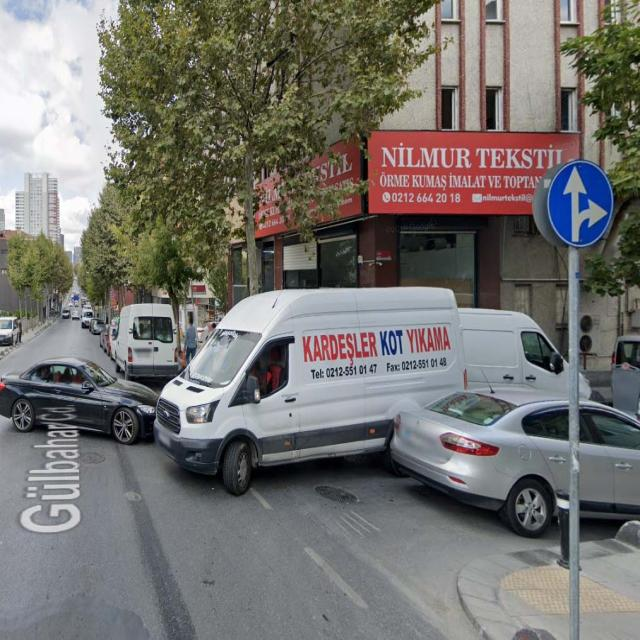ilerisag: (548, 162, 613, 247)
